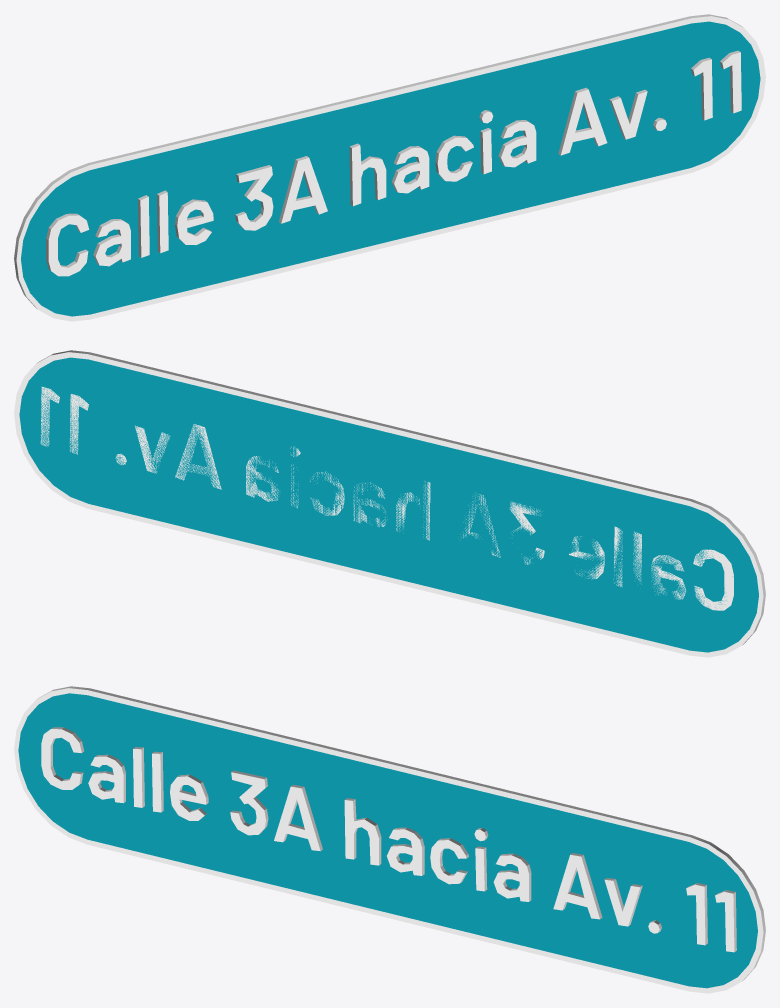
The model's file is calle3Ahaciaav11OBJ.obj.
3 renders of one model, top to bottom at view 1: azimuth 30°, elevation 25°; view 2: azimuth 150°, elevation 25°; view 3: azimuth 330°, elevation 25°, orthographic.
Parts seen in each view (by area): view 1: Entorno_67_Entorno_1__24267_, Texto_de_modelo_Texto_de_modelo_10__24255_, Entorno_68_Entorno_1__24279_; view 2: Entorno_67_Entorno_1__24267_, Entorno_68_Entorno_1__24279_, Texto_de_modelo_Texto_de_modelo_10__24255_; view 3: Entorno_67_Entorno_1__24267_, Texto_de_modelo_Texto_de_modelo_10__24255_, Entorno_68_Entorno_1__24279_.
Part boxes in pixels (x1,y1,x2,y2): Entorno_67_Entorno_1__24267_: (21,21,760,316); Texto_de_modelo_Texto_de_modelo_10__24255_: (46,50,741,276); Entorno_68_Entorno_1__24279_: (14,14,765,321); Entorno_67_Entorno_1__24267_: (19,357,758,652); Entorno_68_Entorno_1__24279_: (14,350,765,657); Texto_de_modelo_Texto_de_modelo_10__24255_: (40,386,733,610); Entorno_67_Entorno_1__24267_: (18,693,757,988); Texto_de_modelo_Texto_de_modelo_10__24255_: (41,727,736,952); Entorno_68_Entorno_1__24279_: (14,686,765,993).
Size of the model in its own units: 52.69 by 10.39 by 0.6.
